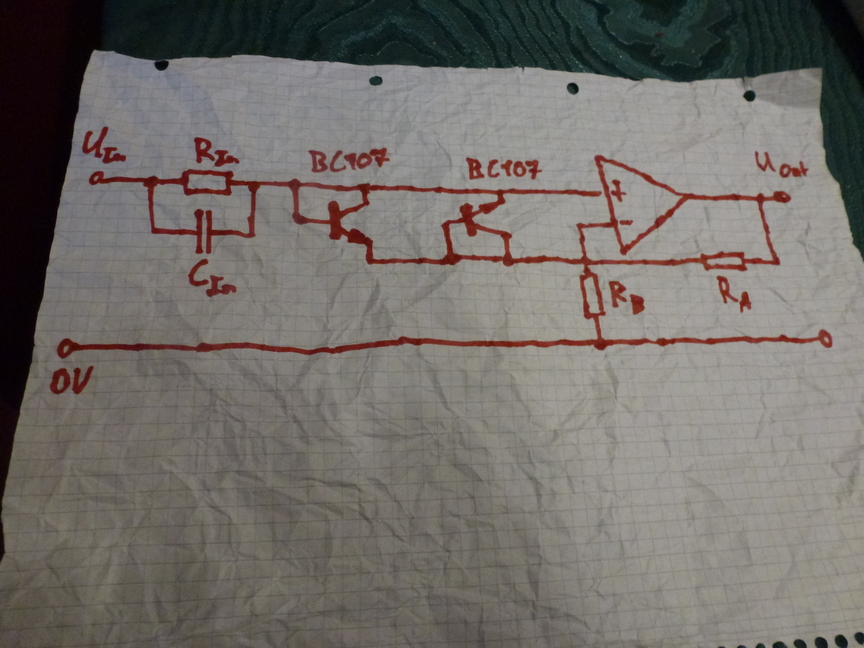capacitor.unpolarized: (190, 207, 219, 256)
junction: (441, 250, 463, 270), (141, 173, 161, 190), (244, 177, 261, 194), (499, 252, 517, 268), (592, 336, 609, 352), (355, 181, 374, 195), (291, 212, 309, 226), (287, 177, 302, 193), (244, 228, 260, 242), (578, 254, 593, 268), (493, 185, 509, 198), (436, 219, 454, 230), (573, 218, 587, 232), (754, 191, 767, 206), (362, 255, 377, 267), (769, 256, 784, 268), (147, 224, 159, 237)
operational_amplifier: (593, 153, 692, 256)
resistor: (179, 167, 236, 198), (578, 271, 607, 321), (698, 250, 749, 273)
terminal: (55, 336, 77, 361), (816, 328, 834, 349), (87, 169, 106, 187), (771, 189, 792, 205)
text: (306, 147, 392, 175), (463, 155, 544, 182), (187, 257, 238, 297), (80, 125, 129, 166), (753, 149, 810, 180), (192, 135, 242, 167), (48, 364, 96, 396), (715, 274, 753, 314), (608, 278, 647, 316)
transistor: (326, 199, 375, 249), (458, 198, 513, 242)
